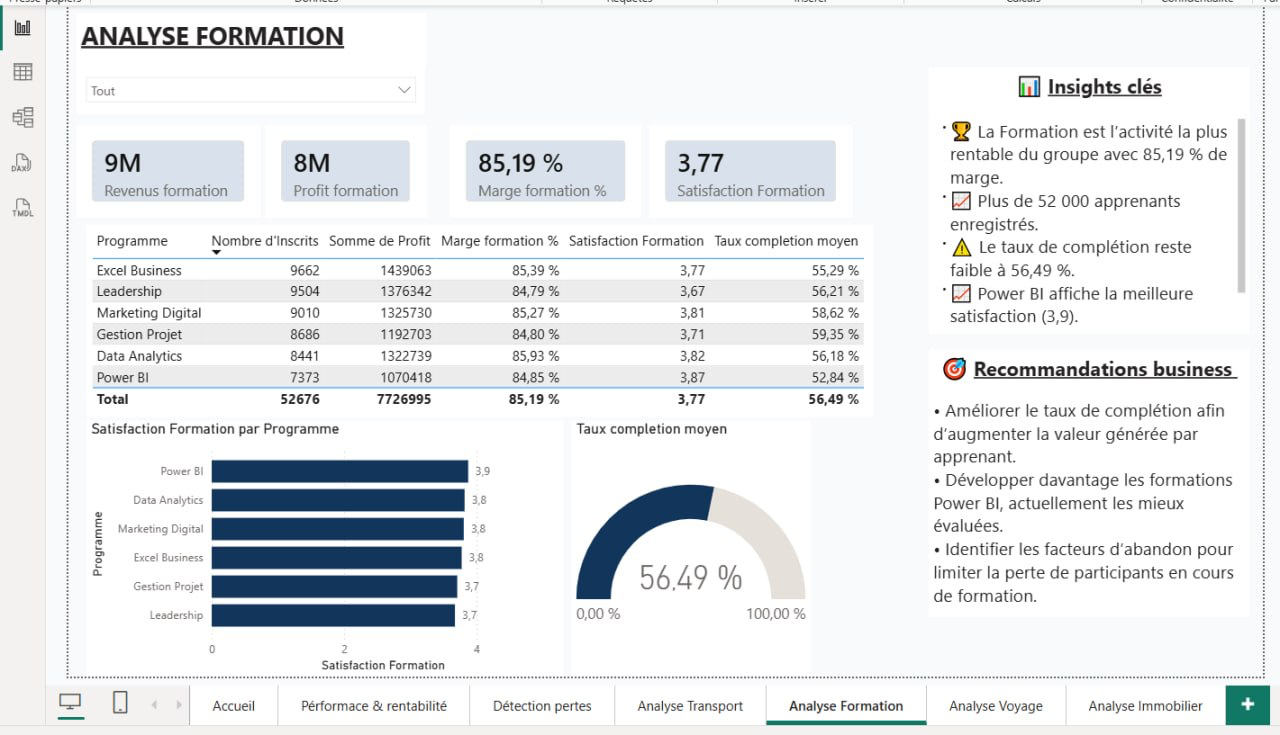

The page's visual inventory and layout, read from the dashboard file:
{"tool":"powerbi","page":{"name":"Analyse Formation","canvas":[1280,720],"ordinal":4},"visuals":[{"type":"textbox","box":[8.4,8.4,375.2,57.9],"z":0},{"type":"cardVisual","fields":{"Data":["Formation.Revenus formation"]},"box":[8.8,127.5,197.5,100],"z":1000},{"type":"cardVisual","fields":{"Data":["Formation.Profit formation"]},"box":[211.2,127.5,172.5,100],"z":2000},{"type":"cardVisual","fields":{"Data":["Formation.Marge formation %"]},"box":[408.8,127.5,205,100],"z":3000},{"type":"cardVisual","fields":{"Data":["Formation.Satisfaction Formation"]},"box":[622.5,127.5,217.5,100],"z":4000},{"type":"clusteredBarChart","fields":{"Category":["Formation.Programme"],"Y":["Formation.Satisfaction Formation"]},"box":[18.8,445,511.2,275],"z":5000},{"type":"slicer","fields":{"Values":["Calendar.Année","Calendar.Mois","Formation.Programme"]},"box":[8.4,66.4,374,50.7],"z":6000},{"type":"tableEx","fields":{"Values":["Formation.Programme","Sum(Formation.Nb_Inscrits)","Sum(Formation.Profit)","Formation.Marge formation %","Formation.Satisfaction Formation","Alerts_Opportunities.Taux completion moyen"]},"box":[19.3,235.3,843.3,206.3],"z":7000},{"type":"gauge","fields":{"Y":["Alerts_Opportunities.Taux completion moyen"]},"box":[539.3,445.2,255.8,275.1],"z":8000},{"type":"textbox","box":[921.7,66.4,343.8,50.7],"z":9000},{"type":"textbox","box":[921.7,117,343.8,235.3],"z":10000},{"type":"textbox","box":[921.7,369.2,343.8,47.1],"z":11000},{"type":"textbox","box":[921.7,416.2,343.8,240.1],"z":12000}]}

Visuals, with their boxes on the page's 1280x720 design canvas (x1, y1, x2, y2). These are canvas units, not pixel positions in the 1280x735 screenshot, which may show the page scaled, cropped or inside an application window:
textbox: bbox=[8, 8, 384, 66]
cardVisual - Formation.Revenus formation: bbox=[9, 128, 206, 228]
cardVisual - Formation.Profit formation: bbox=[211, 128, 384, 228]
cardVisual - Formation.Marge formation %: bbox=[409, 128, 614, 228]
cardVisual - Formation.Satisfaction Formation: bbox=[622, 128, 840, 228]
clusteredBarChart - Formation.Programme x Formation.Satisfaction Formation: bbox=[19, 445, 530, 720]
slicer - Calendar.Année x Calendar.Mois: bbox=[8, 66, 382, 117]
tableEx - Formation.Programme x Sum(Formation.Nb_Inscrits): bbox=[19, 235, 863, 442]
gauge - Alerts_Opportunities.Taux completion moyen: bbox=[539, 445, 795, 720]
textbox: bbox=[922, 66, 1266, 117]
textbox: bbox=[922, 117, 1266, 352]
textbox: bbox=[922, 369, 1266, 416]
textbox: bbox=[922, 416, 1266, 656]
